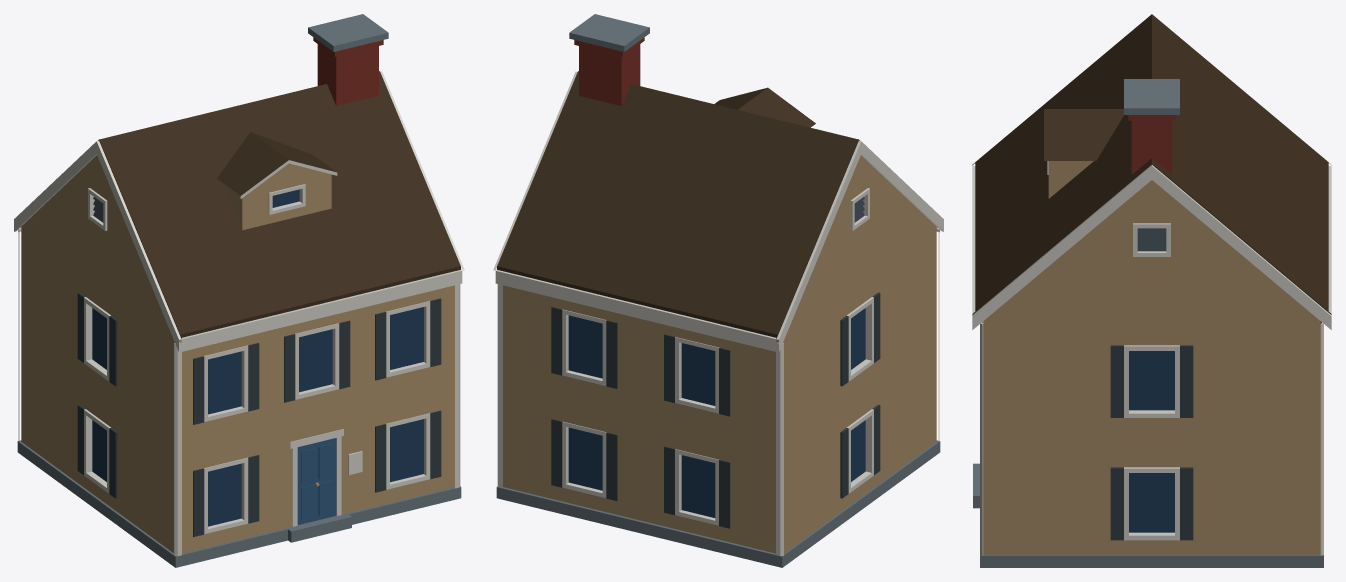
Rendered from two-storey-family-house-c63c4a.glb.
3 renders of one model, left to right at view 1: azimuth 30°, elevation 25°; view 2: azimuth 150°, elevation 25°; view 3: azimuth 270°, elevation 25°, orthographic. The views are drawn at different scales.
Parts seen in each view (by area): view 1: house-shell, door-leaf; view 2: house-shell; view 3: house-shell.
Part boxes in pixels (left/top/right/bottom): house-shell: left=14, top=14, right=464, bottom=567; door-leaf: left=297, top=438, right=336, bottom=524; house-shell: left=493, top=14, right=943, bottom=567; house-shell: left=972, top=14, right=1331, bottom=567.
Bounding box in the file's own units: 8 × 11.2 × 8.
